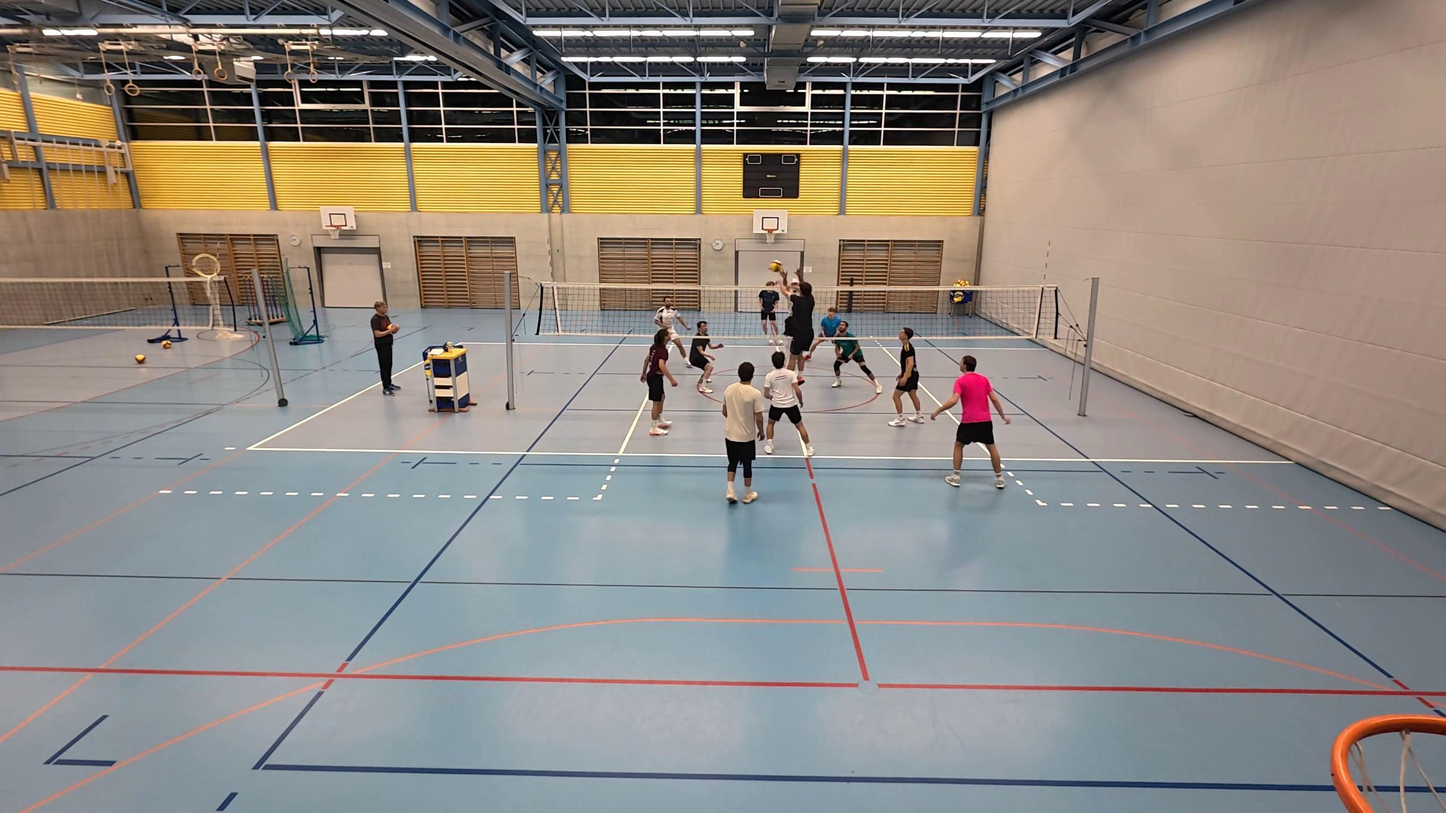attacco: (780, 267, 817, 391)
